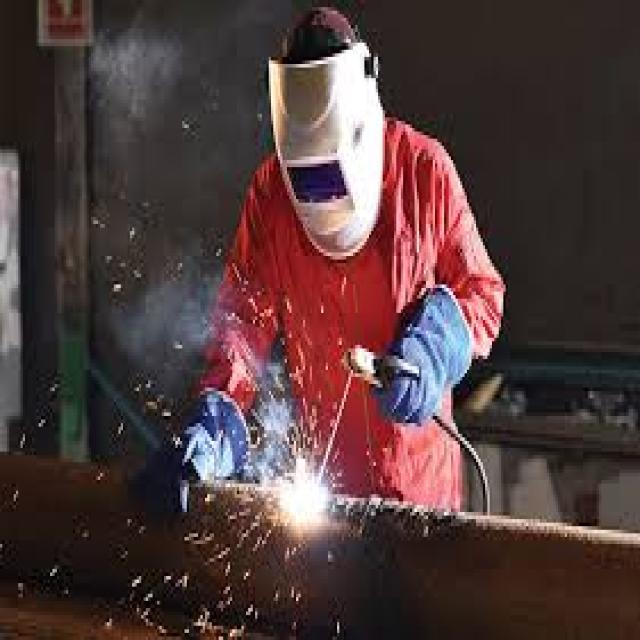welding: (281, 469, 333, 522)
